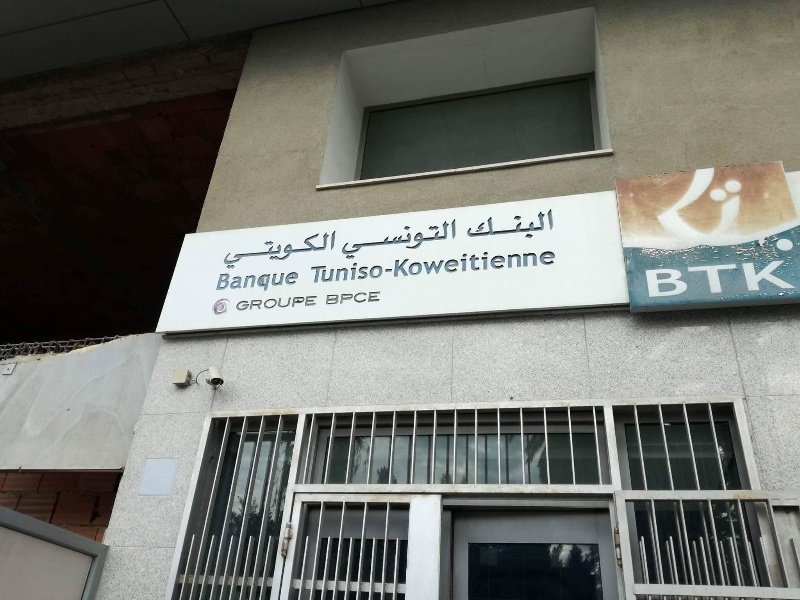text: (353, 219, 368, 260), (369, 219, 384, 260), (385, 219, 400, 260), (401, 219, 416, 260), (417, 219, 432, 260), (433, 219, 448, 260), (657, 259, 672, 298), (673, 259, 688, 298), (689, 259, 704, 298), (705, 259, 720, 298), (721, 259, 736, 298), (737, 259, 752, 298), (753, 259, 768, 298), (769, 259, 784, 298), (225, 231, 240, 270), (241, 231, 256, 270), (257, 231, 272, 270), (273, 231, 288, 270), (289, 231, 304, 270), (305, 231, 320, 270), (321, 231, 336, 270), (321, 247, 336, 284), (337, 247, 352, 284), (353, 247, 368, 284), (369, 247, 384, 284), (385, 247, 400, 284), (401, 247, 416, 284), (417, 247, 432, 284), (433, 247, 448, 284), (449, 247, 464, 284), (465, 247, 480, 284), (481, 247, 496, 284), (497, 247, 512, 284), (513, 247, 528, 284), (529, 247, 544, 284), (465, 209, 480, 244), (481, 209, 496, 244), (497, 209, 512, 244), (513, 209, 528, 244), (529, 209, 544, 244), (785, 259, 797, 298), (645, 259, 656, 298), (545, 247, 556, 284), (225, 269, 240, 295), (241, 269, 256, 295), (257, 269, 272, 295), (273, 269, 288, 295), (545, 209, 556, 244), (310, 247, 320, 284), (449, 219, 458, 260), (344, 219, 352, 260), (289, 269, 299, 295), (241, 295, 256, 312), (257, 295, 272, 312), (273, 295, 288, 312), (289, 295, 304, 312), (337, 290, 352, 306), (353, 290, 368, 306), (305, 295, 318, 312), (369, 290, 381, 306), (327, 290, 336, 306), (220, 269, 224, 295), (237, 295, 240, 312)
